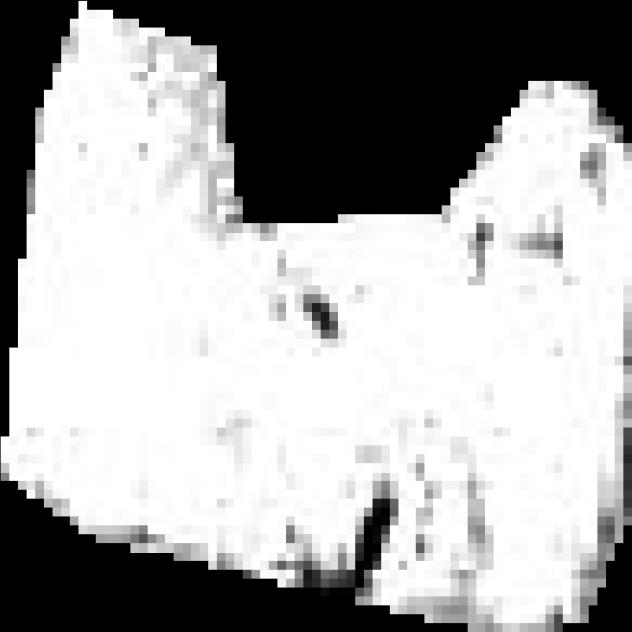tumor_good_chance: (1, 1, 632, 632)
